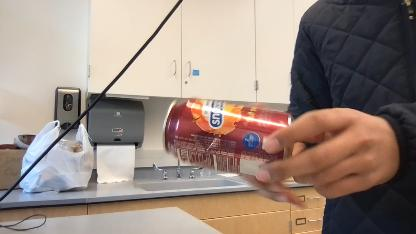Can: (162, 99, 294, 177)
